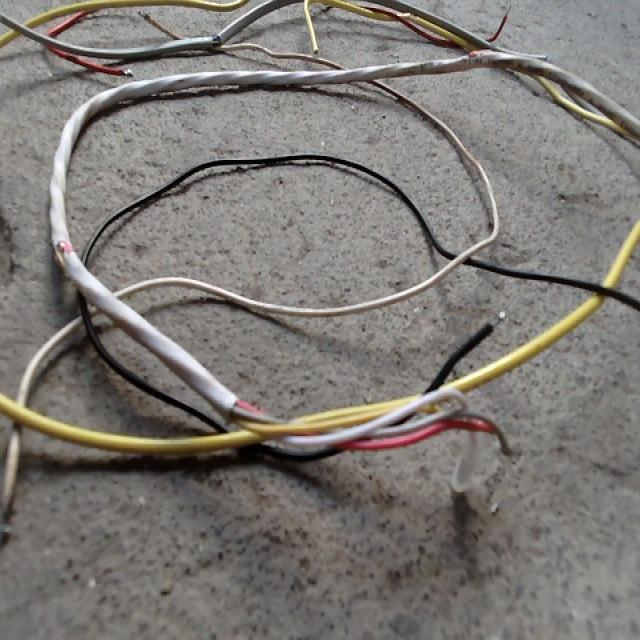-: (51, 236, 74, 268)
